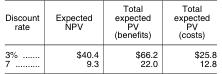table: (4, 3, 215, 68)
table column: (105, 3, 165, 68), (46, 3, 105, 68), (165, 3, 215, 68), (4, 3, 46, 68)
table column header: (4, 3, 215, 44)
table row: (4, 3, 215, 44), (4, 44, 215, 59), (4, 59, 215, 68)
